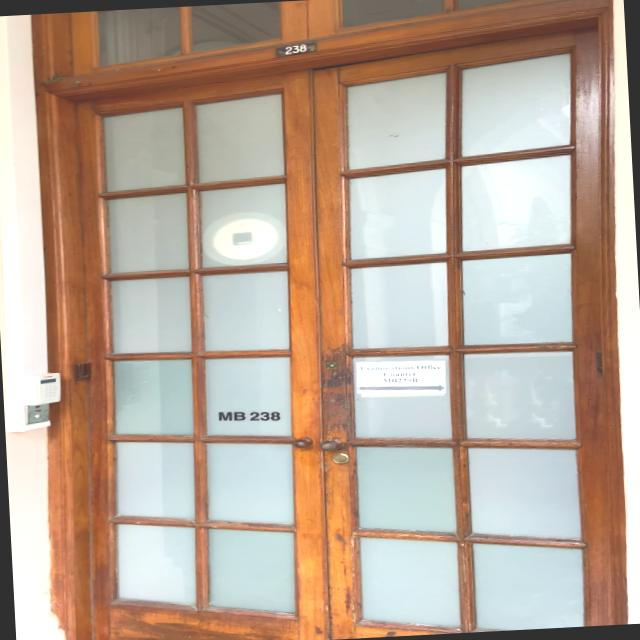room238: (275, 42, 318, 58)
